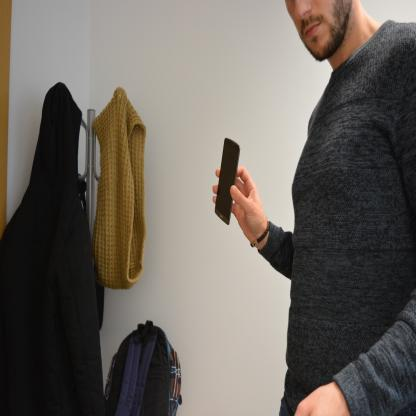smartphone: (214, 137, 240, 225)
